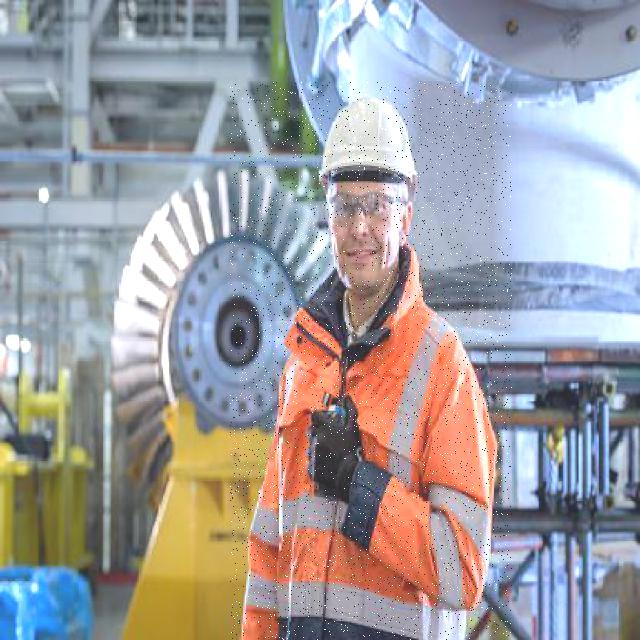helmet: (318, 93, 419, 189)
vest: (241, 243, 496, 640)
